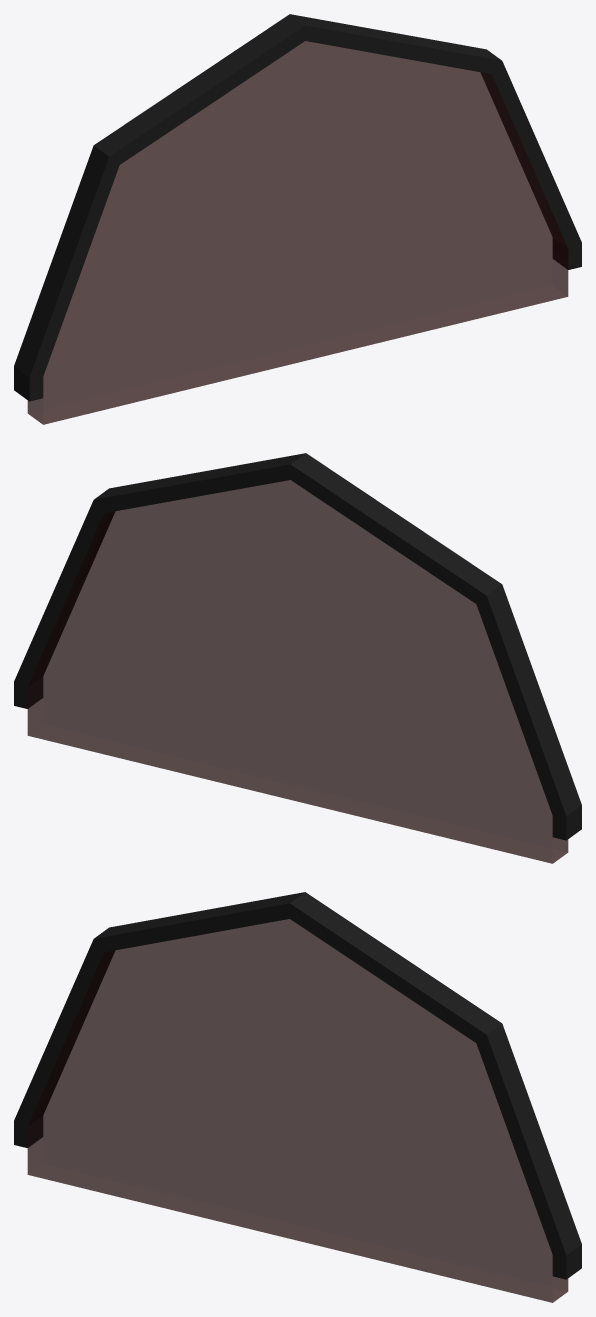
Rendered from portal.FBX.
3 views of the same model, one above another, from view 1: azimuth 30°, elevation 25°; view 2: azimuth 150°, elevation 25°; view 3: azimuth 330°, elevation 25° (orthographic).
Parts seen in each view (by area): view 1: portal, portalFrame; view 2: portal, portalFrame; view 3: portal, portalFrame.
Boxes of the visible parts, box(x1,y1,x2,y2) form: portal: box(27, 41, 568, 424); portalFrame: box(14, 14, 581, 401); portal: box(27, 480, 568, 863); portalFrame: box(14, 453, 581, 840); portal: box(27, 919, 568, 1302); portalFrame: box(14, 892, 581, 1279).
Size of the model in its own units: 202 by 117 by 9.83.
